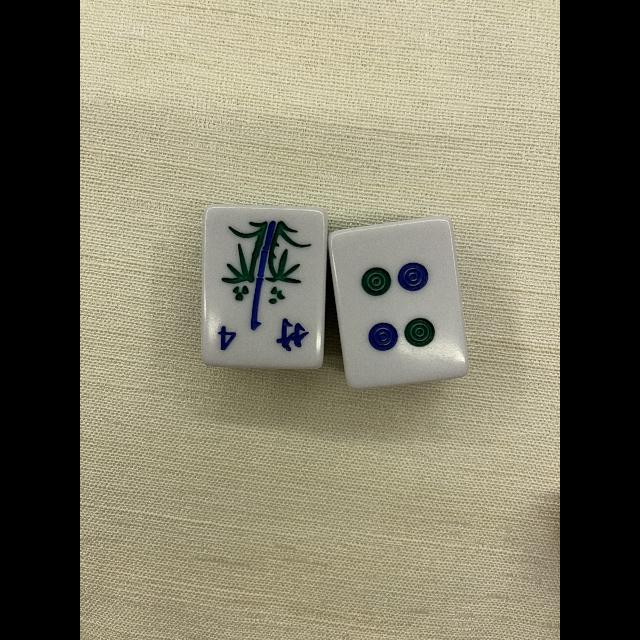d4: (342, 224, 458, 380)
f4: (204, 306, 320, 364)
